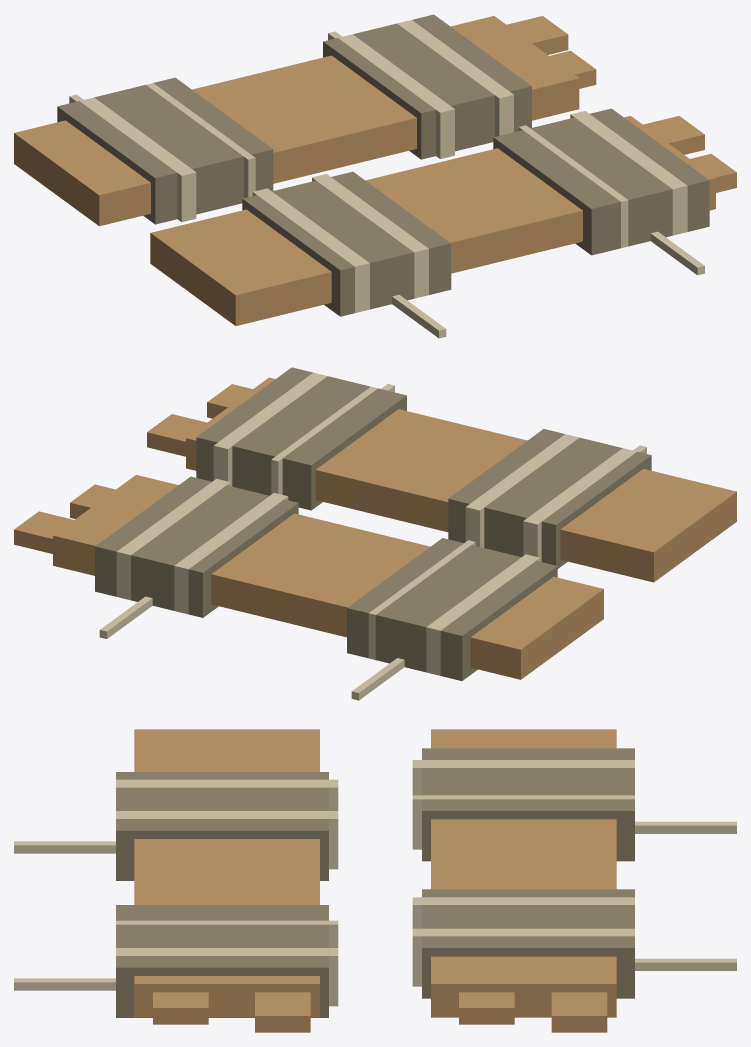
The model's file is two_by_shin_guards.glb.
3 renders of one model, top to bottom at view 1: azimuth 30°, elevation 25°; view 2: azimuth 150°, elevation 25°; view 3: azimuth 270°, elevation 25°, orthographic. The views are drawn at different scales.
Visible parts, largest first — view 1: two_by_shin_guards:compound; view 2: two_by_shin_guards:compound; view 3: two_by_shin_guards:compound.
Boxes of the visible parts, <box> form: two_by_shin_guards:compound: <box>14,14,736,338</box>; two_by_shin_guards:compound: <box>14,367,736,700</box>; two_by_shin_guards:compound: <box>14,729,736,1032</box>.
Size of the model in its own units: 0.284 by 0.024 by 0.312.
